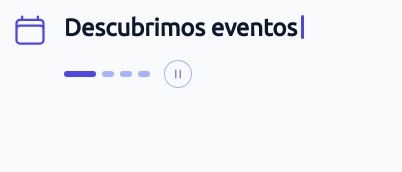
Scenario: HeroActions › se puede pausar el texto animado y reanudarlo
This screenshot has width=402, height=172.
Click the button named "Pausar el texto animado" at x=178, y=74, box x1=164 y1=60 x2=192 y2=88
Wait 20000 ms
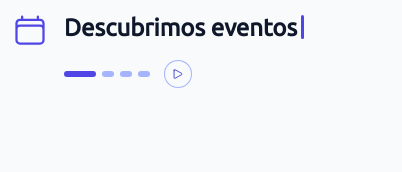
Expected: the element showing "Descubrimos eventos" is shown, x1=64 y1=14 x2=304 y2=41
Click the button named "Reanudar el texto animado" at x=178, y=74, box x1=164 y1=60 x2=192 y2=88
Wait 6600 ms
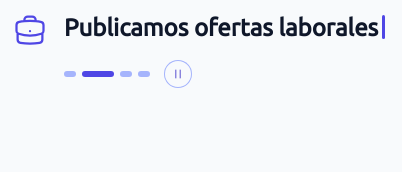
Expected: the element showing "Publicamos ofertas laborales" is shown, x1=64 y1=14 x2=385 y2=41
